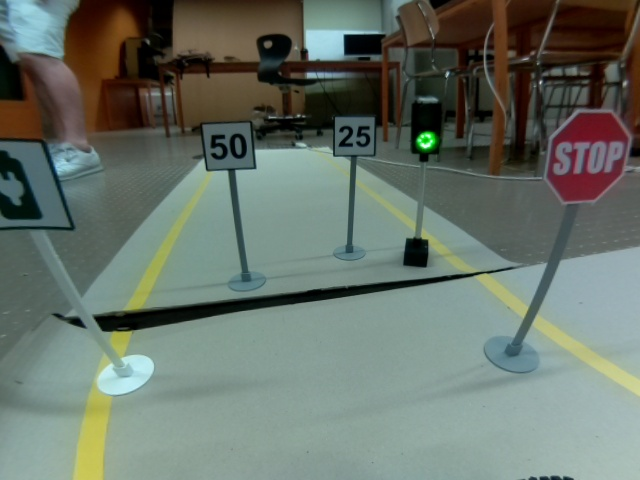battery: (1, 133, 78, 234)
speed25: (331, 112, 377, 159)
speed50: (199, 119, 260, 173)
stop: (544, 105, 634, 205)
traffic light: (409, 99, 445, 157)
